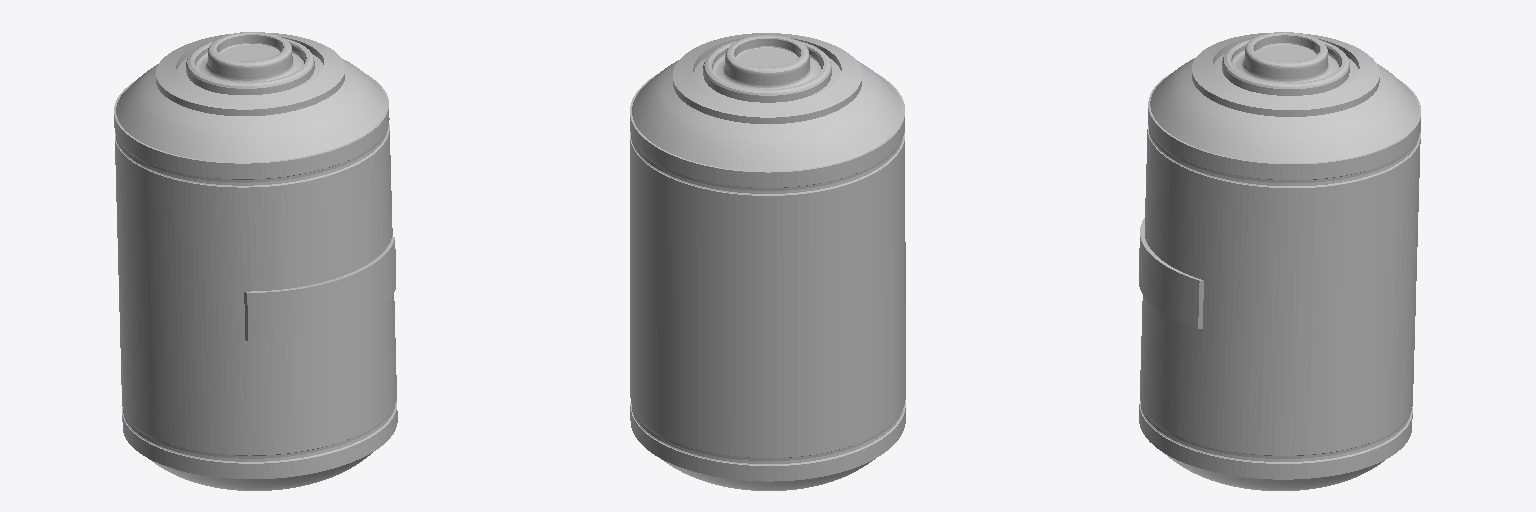
The model's file is bombona1.OBJ.
3 renders of one model, left to right at view 1: azimuth 30°, elevation 25°; view 2: azimuth 150°, elevation 25°; view 3: azimuth 270°, elevation 25°, orthographic.
Visible parts, largest first — view 1: Group15826, Group15827; view 2: Group15826; view 3: Group15826, Group15827.
Part boxes in pixels (x1,y1,x2,y2): Group15826: (114,32,397,490); Group15827: (247,240,395,340); Group15826: (630,33,905,490); Group15826: (1139,32,1420,490); Group15827: (1139,237,1199,328).
Size of the model in its own units: 2.33 by 3.81 by 2.35.